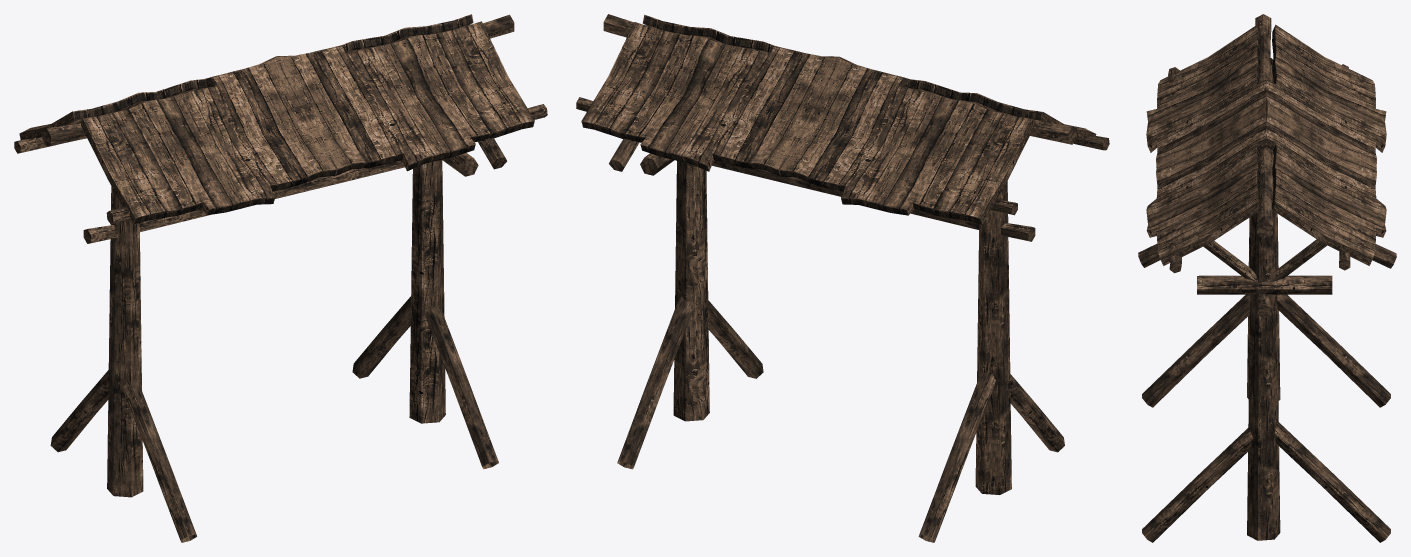
The model's file is PhoenixForest_Live_gate01.FBX.
3 views of the same model, side by side, from view 1: azimuth 30°, elevation 25°; view 2: azimuth 150°, elevation 25°; view 3: azimuth 270°, elevation 25° (orthographic). The views are drawn at different scales.
Visible parts, largest first — view 1: Object007; view 2: Object007; view 3: Object007.
Part boxes in pixels (x1,y1,x2,y2): Object007: (14, 14, 547, 542); Object007: (576, 14, 1109, 542); Object007: (1138, 14, 1396, 542).
Size of the model in its own units: 414 by 343 by 218.
3 materials, 3 textured.
